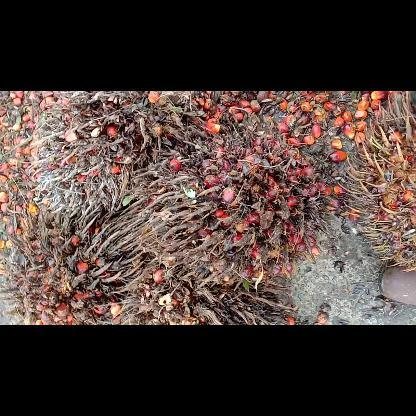Terlalu masak: (115, 124, 330, 300), (33, 91, 219, 221), (0, 198, 148, 324)
